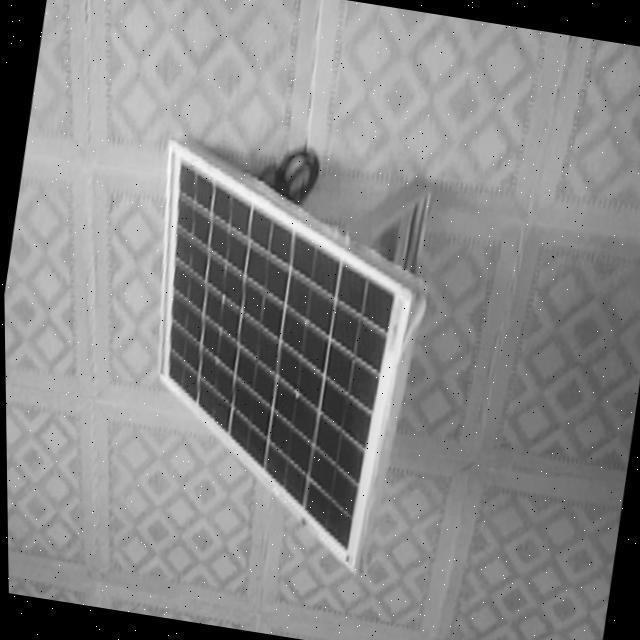Normal Solar Panel: (105, 140, 445, 578)
